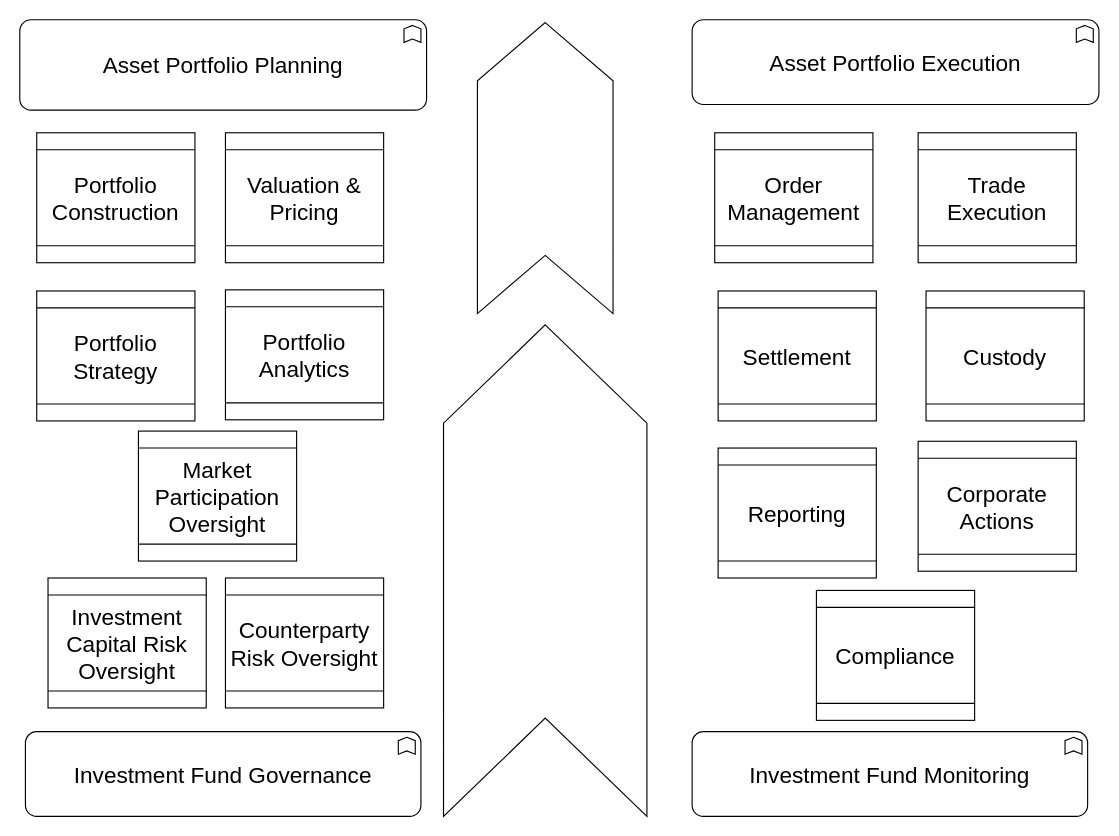
The diagram is 1119 pixels wide and 836 high, and some of its shapes have lost their labels. Here are the shapes that lost their labels. From the top down, the centre of each, then its label:
At pixel 544 167: "Asset-Specific Portfolio Control".
At pixel 544 570: "Multi-Asset Portfolio Oversight".
